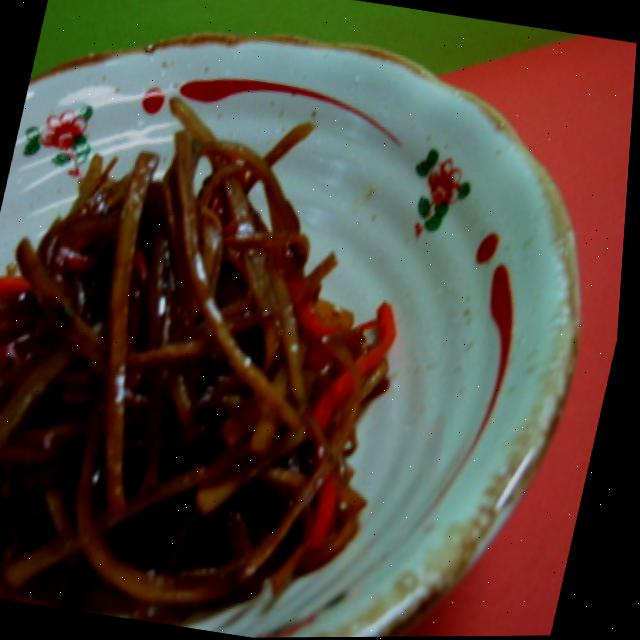蔬菜料理: (0, 10, 639, 640)
